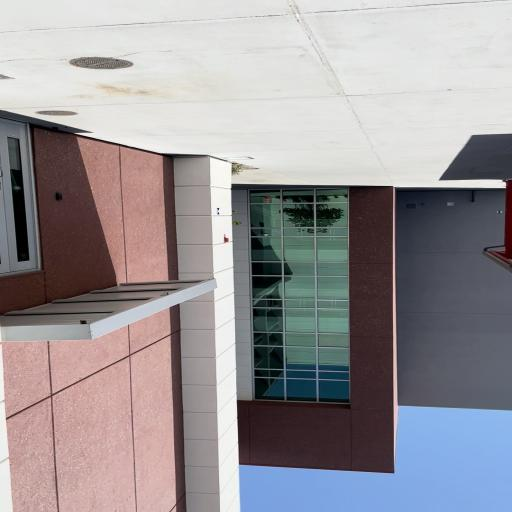target6: (216, 208, 220, 214)
